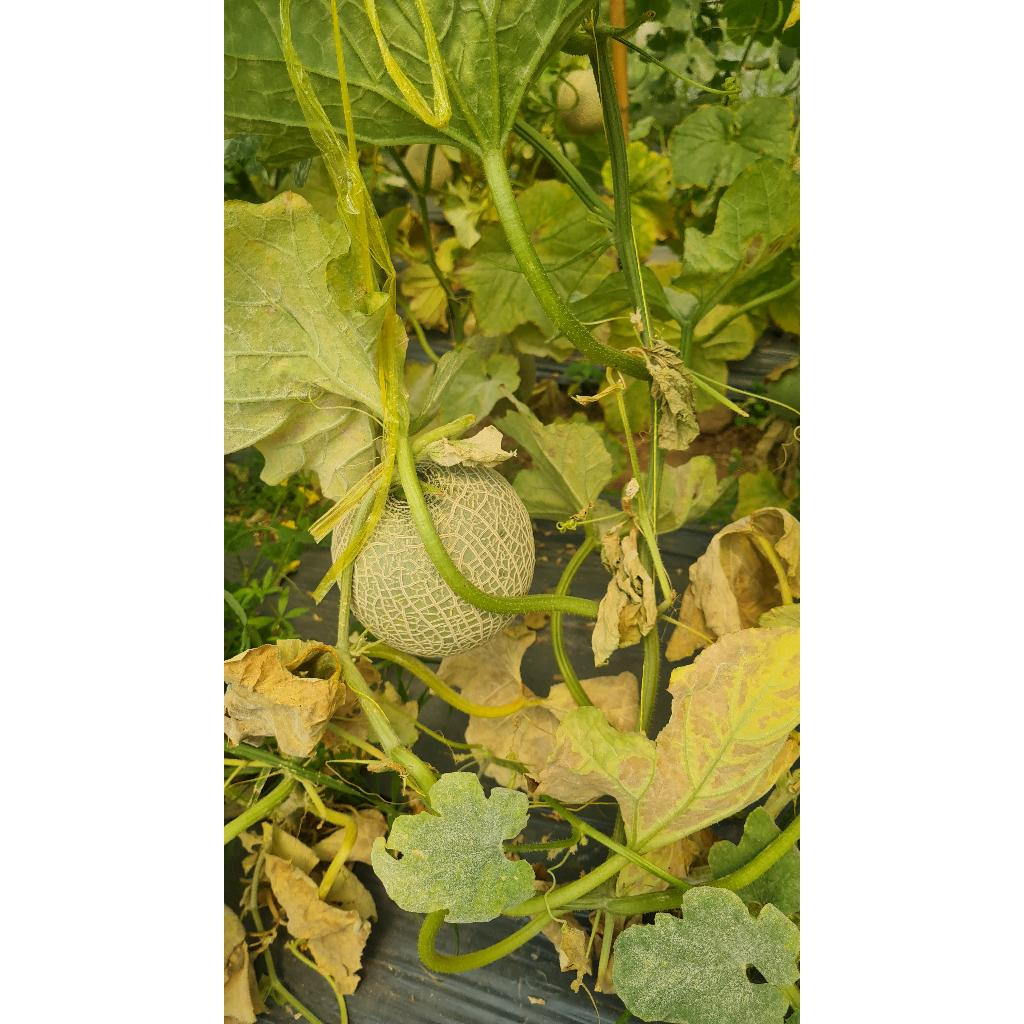melon: (352, 494, 514, 658), (416, 462, 536, 596)
